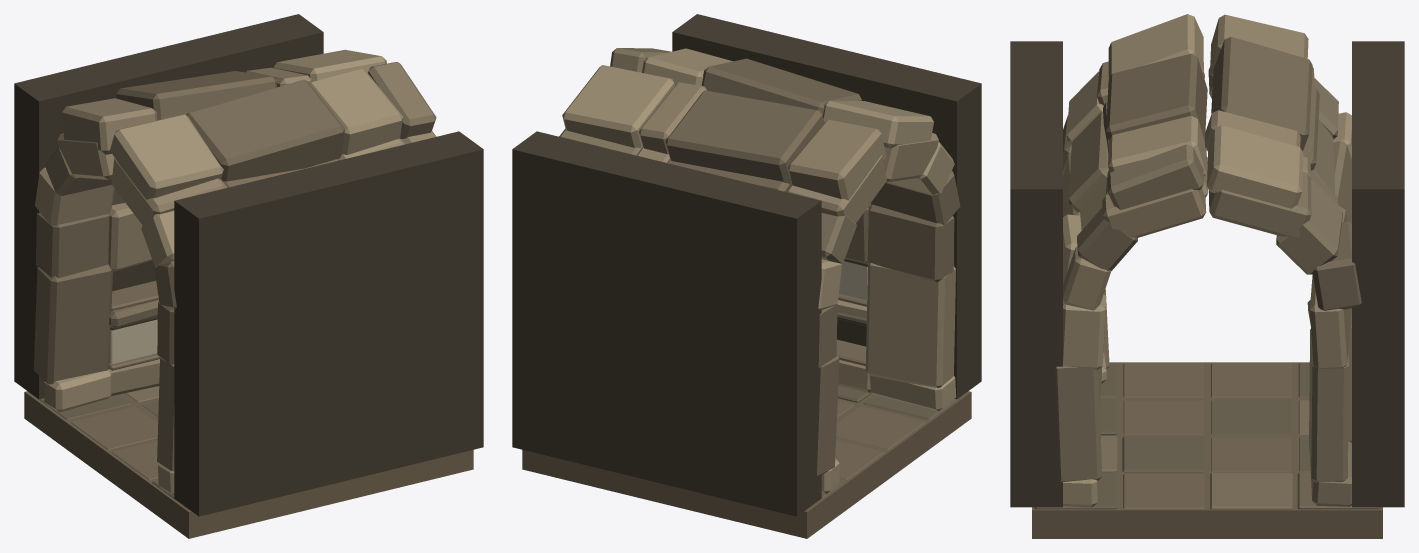
Rendered from cripta-corridoio-3.glb.
The picture shows the model from 3 angles, left to right: view 1: azimuth 30°, elevation 25°; view 2: azimuth 150°, elevation 25°; view 3: azimuth 270°, elevation 25°; orthographic projection. The views are drawn at different scales.
Visible parts, largest first — view 1: cripta-corridoio-32; view 2: cripta-corridoio-32; view 3: cripta-corridoio-32.
Boxes of the visible parts, x1,y1,x2,y2 form: cripta-corridoio-32: (14, 14, 483, 538); cripta-corridoio-32: (512, 14, 981, 538); cripta-corridoio-32: (1010, 14, 1404, 538).
Bounding box in the file's own units: 4.09 × 4.86 × 4.5.
